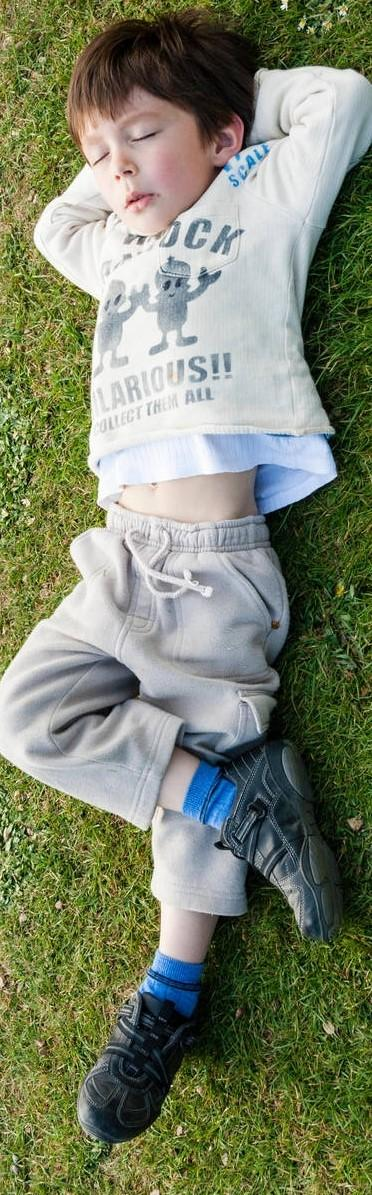Healthy: (71, 74, 227, 247)
